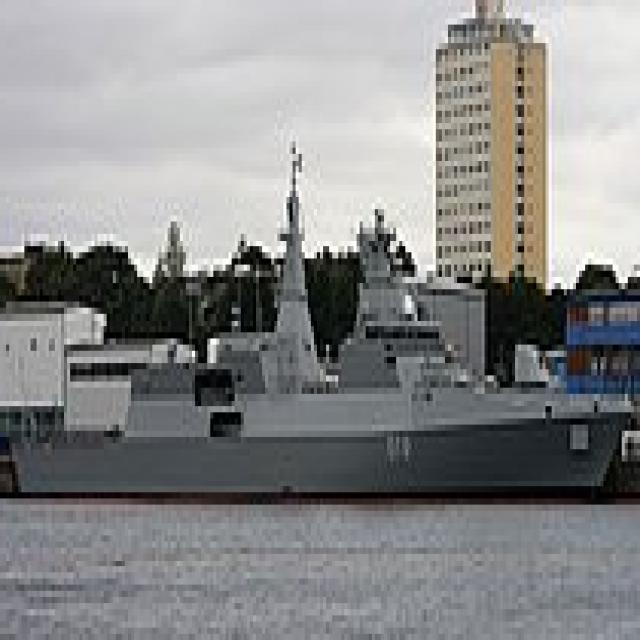Warship: (15, 129, 640, 505)
